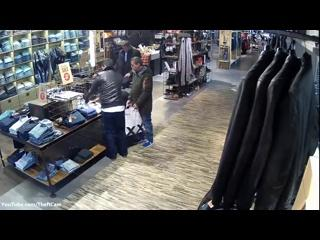Normal: (116, 36, 141, 76)
shoplifting: (84, 58, 130, 160), (124, 57, 154, 148)
